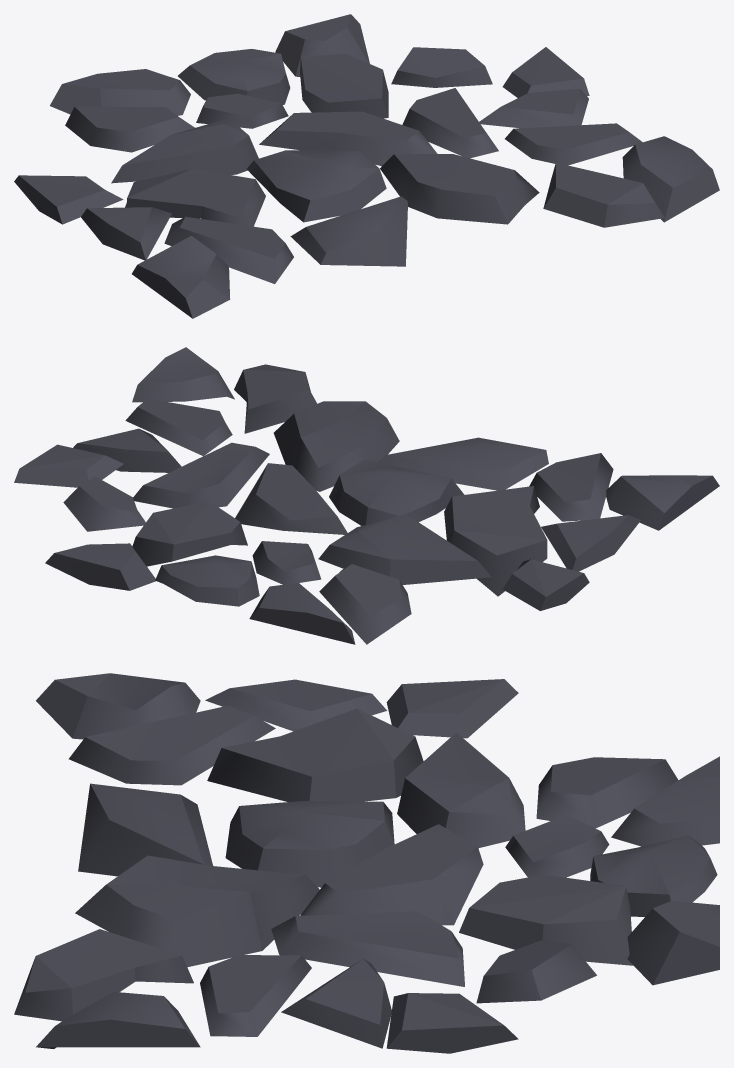
The model's file is Stone_Path_Crossroads_U.fbx.
3 renders of one model, top to bottom at view 1: azimuth 30°, elevation 25°; view 2: azimuth 150°, elevation 25°; view 3: azimuth 270°, elevation 25°, orthographic. The views are drawn at different scales.
Visible parts, largest first — view 1: Stone_Path_Crossroads_U; view 2: Stone_Path_Crossroads_U; view 3: Stone_Path_Crossroads_U.
Boxes of the visible parts, left/top/right/bottom form: Stone_Path_Crossroads_U: left=14, top=14, right=719, bottom=318; Stone_Path_Crossroads_U: left=14, top=347, right=719, bottom=644; Stone_Path_Crossroads_U: left=14, top=673, right=719, bottom=1053.
Size of the model in its own units: 147 by 15.92 by 126.
